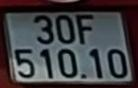.: (81, 75, 85, 79)
0: (58, 48, 77, 78), (108, 49, 127, 78), (56, 15, 74, 43)
1: (89, 49, 102, 78), (40, 48, 52, 78)
3: (34, 15, 54, 43)
5: (15, 49, 34, 78)
F: (76, 15, 95, 44)
